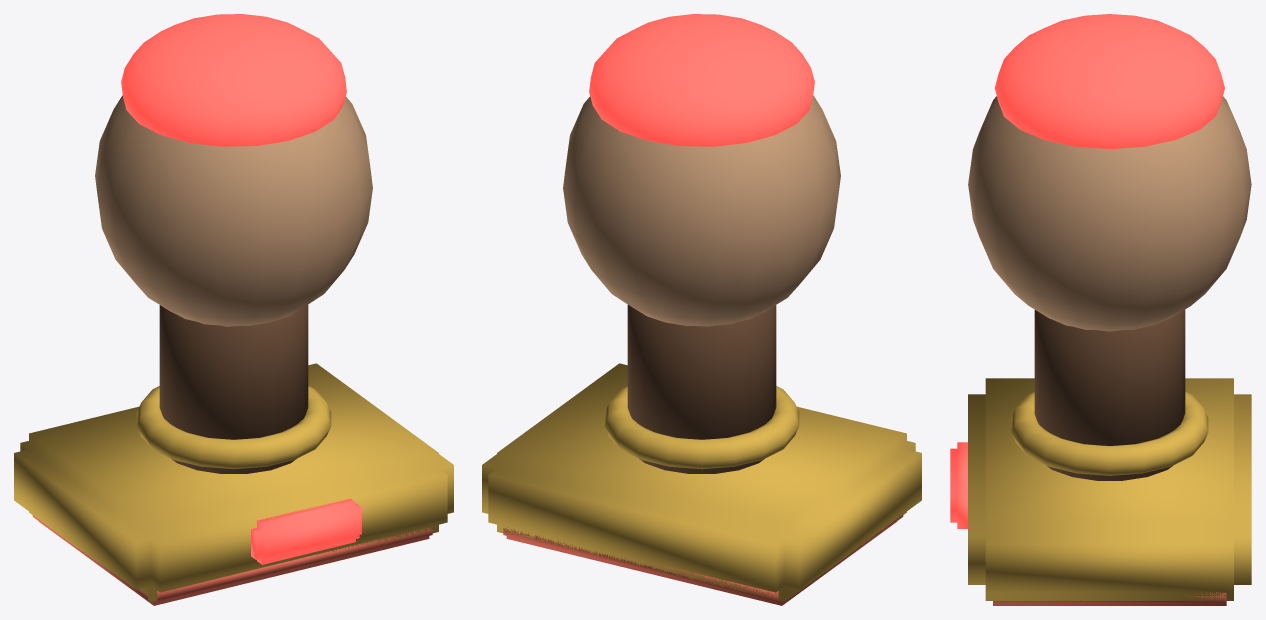
File: Doc_Stamp_Reject.fbx
3 views of the same model, side by side, from view 1: azimuth 30°, elevation 25°; view 2: azimuth 150°, elevation 25°; view 3: azimuth 270°, elevation 25° (orthographic).
Parts seen in each view (by area): view 1: Stamp_Mat_Brass, Stamp_Mat_WarmWood, Stamp_Mat_StatusRed, Stamp_Mat_DarkWood, Stamp_Mat_Developer_Coral; view 2: Stamp_Mat_Brass, Stamp_Mat_WarmWood, Stamp_Mat_StatusRed, Stamp_Mat_DarkWood, Stamp_Mat_Developer_Coral; view 3: Stamp_Mat_Brass, Stamp_Mat_WarmWood, Stamp_Mat_StatusRed, Stamp_Mat_DarkWood, Stamp_Mat_Developer_Coral.
Part boxes in pixels (bbox=[...]): Stamp_Mat_Brass: bbox=[14, 363, 453, 601]; Stamp_Mat_WarmWood: bbox=[95, 95, 372, 326]; Stamp_Mat_StatusRed: bbox=[121, 14, 361, 564]; Stamp_Mat_DarkWood: bbox=[159, 305, 308, 473]; Stamp_Mat_Developer_Coral: bbox=[32, 515, 432, 605]; Stamp_Mat_Brass: bbox=[482, 363, 921, 601]; Stamp_Mat_WarmWood: bbox=[563, 95, 840, 326]; Stamp_Mat_StatusRed: bbox=[589, 14, 814, 146]; Stamp_Mat_DarkWood: bbox=[627, 305, 776, 473]; Stamp_Mat_Developer_Coral: bbox=[503, 514, 903, 605]; Stamp_Mat_Brass: bbox=[968, 378, 1251, 600]; Stamp_Mat_WarmWood: bbox=[968, 96, 1251, 331]; Stamp_Mat_StatusRed: bbox=[950, 14, 1224, 528]; Stamp_Mat_DarkWood: bbox=[1034, 309, 1185, 480]; Stamp_Mat_Developer_Coral: bbox=[993, 592, 1226, 605].
Size of the model in its own units: 4.2 by 6.3 by 3.4.
